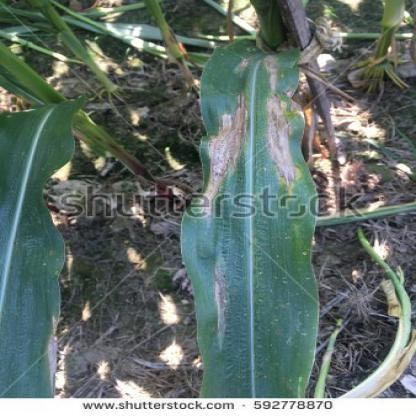Corn leaf blight: (176, 44, 306, 390)
